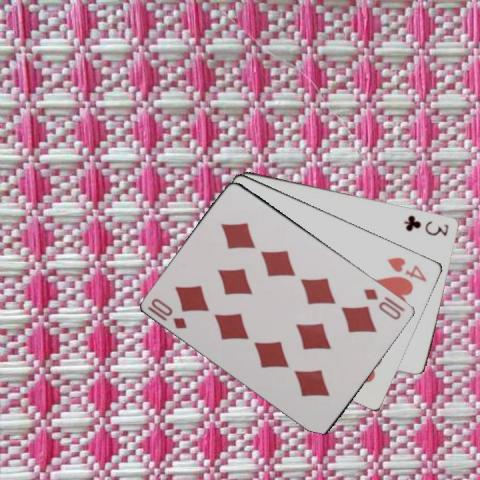10d: (144, 295, 188, 331), (361, 286, 403, 322)
3c: (400, 212, 450, 238)
4h: (385, 254, 428, 283)
